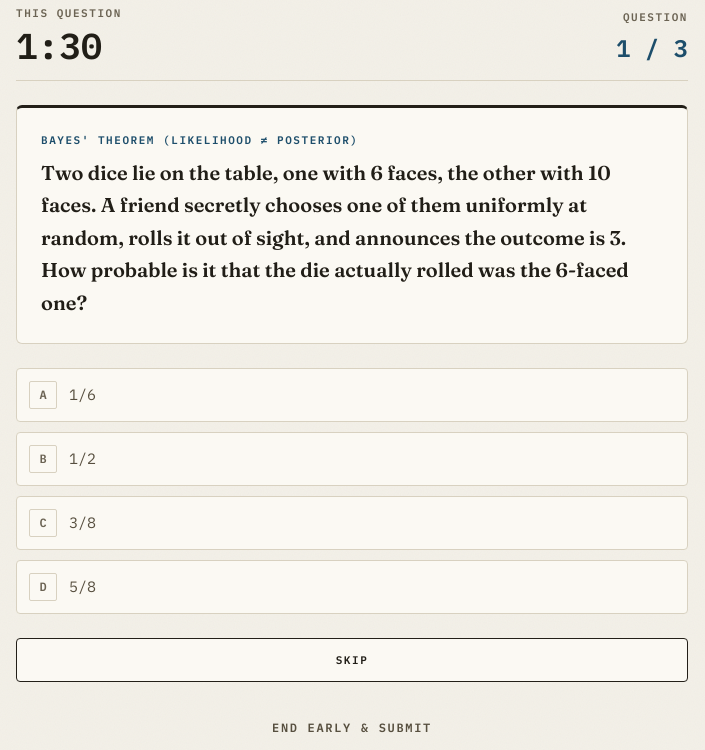
Test: OaRunner — SPRINT › renders the prompt + choices + a per-question countdown, and a choice advances
Check: the text "1:30" is shown, box [16,22,102,69]
Check: the text "1 / 3" is shown, box [616,32,688,64]
// Selecting a choice auto-advances (sprint).
Click the button "A 1/6": (43, 395) [16,368,688,422]
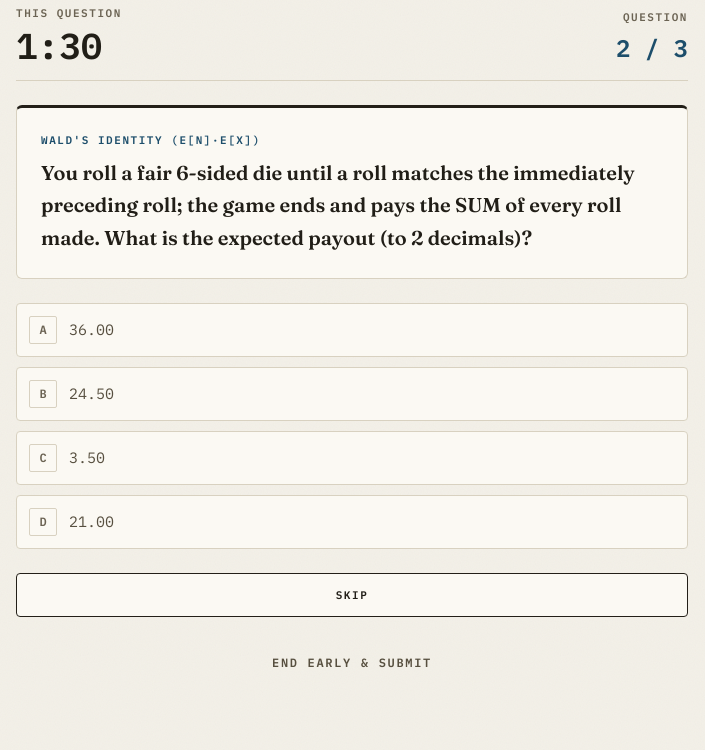
Check: the text "2 / 3" is shown, box [616,32,688,64]
